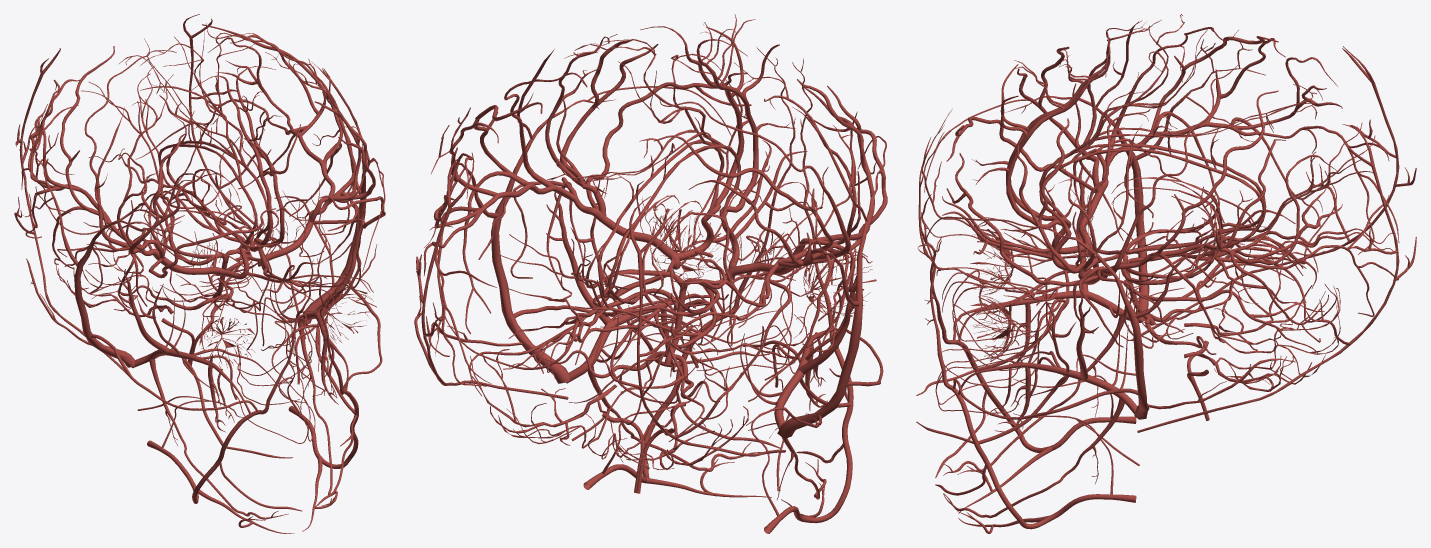
The model's file is arterial-head-mobile.glb.
3 views of the same model, side by side, from view 1: azimuth 30°, elevation 25°; view 2: azimuth 150°, elevation 25°; view 3: azimuth 270°, elevation 25° (orthographic). The views are drawn at different scales.
Visible parts, largest first — view 1: za.superficial-temporal-artery-r, za.pericallosal-artery-r, za.superficial-temporal-artery-l, za.posterior-cerebral-artery-r, za.pericallosal-artery-l, za.occipital-artery-r, za.occipital-artery-l, za.posterior-cerebral-artery-l, za.callosomarginal-artery-r, za.callosomarginal-artery-l, za.maxillary-artery-r, za.central-retinal-artery-r (+36 smaller); view 2: za.superficial-temporal-artery-r, za.superficial-temporal-artery-l, za.pericallosal-artery-r, za.pericallosal-artery-l, za.posterior-cerebral-artery-r, za.occipital-artery-r, za.posterior-cerebral-artery-l, za.occipital-artery-l, za.posterior-inferior-cerebellar-artery-l, za.callosomarginal-artery-r, za.posterior-inferior-cerebellar-artery-r, za.callosomarginal-artery-l (+39 smaller); view 3: za.superficial-temporal-artery-l, za.superficial-temporal-artery-r, za.pericallosal-artery-l, za.pericallosal-artery-r, za.posterior-cerebral-artery-l, za.occipital-artery-l, za.posterior-cerebral-artery-r, za.occipital-artery-r, za.callosomarginal-artery-l, za.posterior-inferior-cerebellar-artery-r, za.maxillary-artery-l, za.facial-artery-l (+36 smaller).
Part boxes in pixels (<box>): za.superficial-temporal-artery-r: <box>22,107,171,367</box>; za.pericallosal-artery-r: <box>118,36,257,243</box>; za.superficial-temporal-artery-l: <box>274,58,382,323</box>; za.posterior-cerebral-artery-r: <box>83,173,227,300</box>; za.pericallosal-artery-l: <box>146,29,268,237</box>; za.occipital-artery-r: <box>14,48,128,376</box>; za.occipital-artery-l: <box>159,14,305,339</box>; za.posterior-cerebral-artery-l: <box>191,169,324,262</box>; za.callosomarginal-artery-r: <box>191,75,278,251</box>; za.callosomarginal-artery-l: <box>236,66,313,247</box>; za.maxillary-artery-r: <box>131,349,234,432</box>; za.central-retinal-artery-r: <box>199,292,255,370</box>; za.superficial-temporal-artery-r: <box>746,107,882,438</box>; za.superficial-temporal-artery-l: <box>424,49,615,383</box>; za.pericallosal-artery-r: <box>583,53,740,304</box>; za.pericallosal-artery-l: <box>547,39,724,297</box>; za.posterior-cerebral-artery-r: <box>642,200,809,393</box>; za.occipital-artery-r: <box>599,196,785,456</box>; za.posterior-cerebral-artery-l: <box>503,195,685,369</box>; za.occipital-artery-l: <box>414,152,568,399</box>; za.posterior-inferior-cerebellar-artery-l: <box>468,349,617,448</box>; za.callosomarginal-artery-r: <box>696,19,795,223</box>; za.posterior-inferior-cerebellar-artery-r: <box>584,401,748,469</box>; za.callosomarginal-artery-l: <box>640,14,748,220</box>; za.superficial-temporal-artery-l: <box>1005,124,1295,419</box>; za.superficial-temporal-artery-r: <box>1005,20,1295,320</box>; za.pericallosal-artery-l: <box>1039,45,1317,241</box>; za.pericallosal-artery-r: <box>1039,14,1316,228</box>; za.posterior-cerebral-artery-l: <box>1111,187,1324,342</box>; za.occipital-artery-l: <box>1137,124,1416,432</box>; za.posterior-cerebral-artery-r: <box>1111,177,1324,260</box>; za.occipital-artery-r: <box>1141,46,1416,335</box>; za.callosomarginal-artery-l: <box>973,53,1110,233</box>; za.posterior-inferior-cerebellar-artery-r: <box>1184,248,1340,353</box>; za.maxillary-artery-l: <box>987,362,1137,432</box>; za.facial-artery-l: <box>965,417,1136,529</box>.
Bounding box in the file's own units: 0.1489 × 0.2031 × 0.1916.
